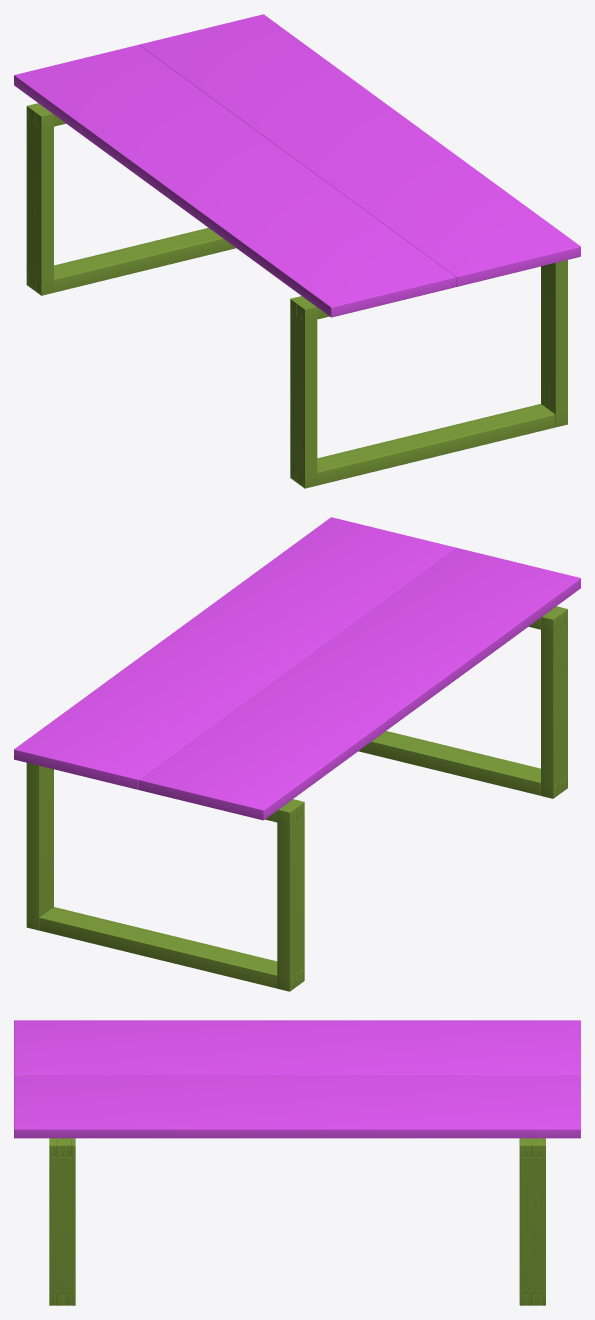
Rendered from Table1.glb.
The picture shows the model from 3 angles, top to bottom: view 1: azimuth 30°, elevation 25°; view 2: azimuth 150°, elevation 25°; view 3: azimuth 270°, elevation 25°; orthographic projection. The views are drawn at different scales.
Visible parts, largest first — view 1: table; view 2: table; view 3: table.
Boxes of the visible parts, x1=… form: table: x1=14, y1=14, x2=580, y2=488; table: x1=14, y1=517, x2=580, y2=991; table: x1=14, y1=1020, x2=580, y2=1305.
Size of the model in its own units: 1.05 by 0.7426 by 2.2.
